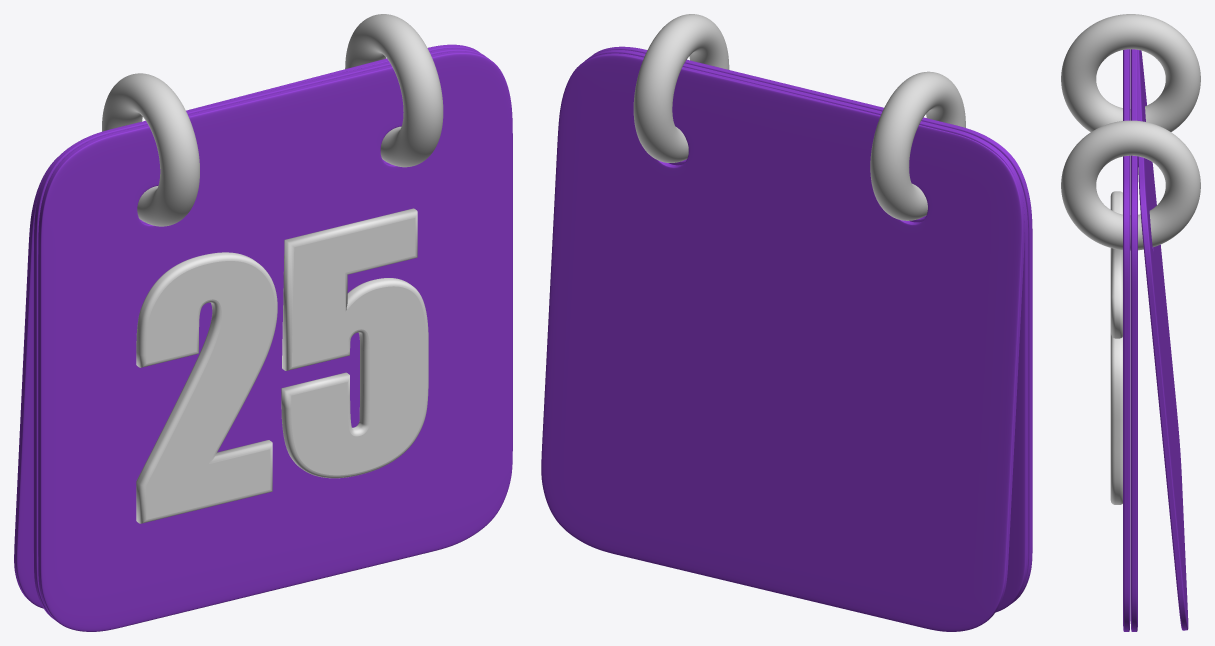
The model's file is calendar1.glb.
3 views of the same model, side by side, from view 1: azimuth 30°, elevation 25°; view 2: azimuth 150°, elevation 25°; view 3: azimuth 270°, elevation 25° (orthographic). The views are drawn at different scales.
Parts seen in each view (by area): view 1: Torus.009; view 2: Torus.009; view 3: Torus.009.
Part boxes in pixels (x1,y1,x2,y2): Torus.009: (14, 14, 512, 631); Torus.009: (541, 14, 1032, 631); Torus.009: (1061, 14, 1200, 631).
Bounding box in the file's own units: 1.79 × 1.94 × 0.5104.
